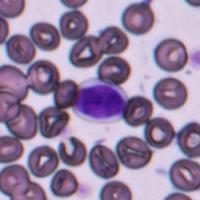L: (72, 78, 127, 122)
